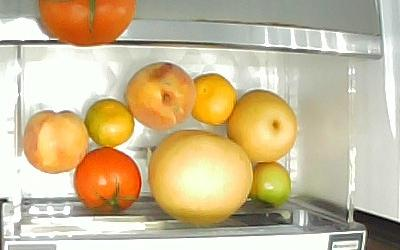peach: (125, 60, 197, 129), (22, 108, 89, 174)
pear: (146, 128, 253, 223), (225, 87, 297, 162)
tangerine: (83, 97, 135, 146), (189, 72, 237, 125)
tomato: (72, 145, 142, 213), (247, 159, 291, 208)
